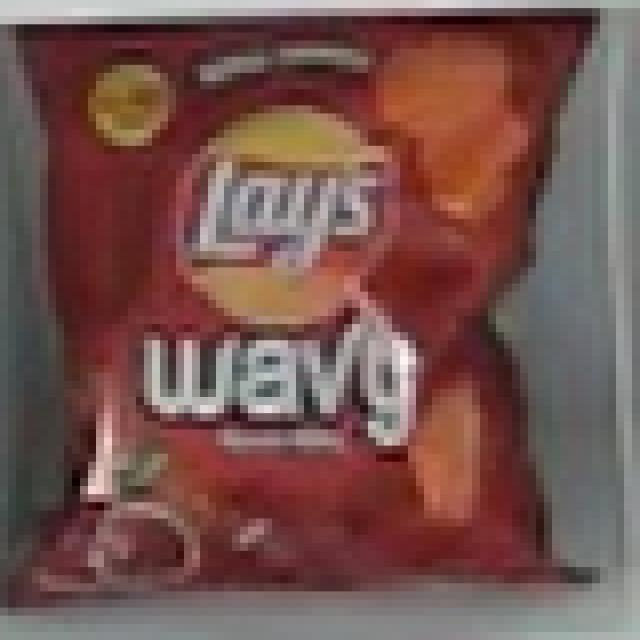Plastic: (3, 8, 625, 616)
